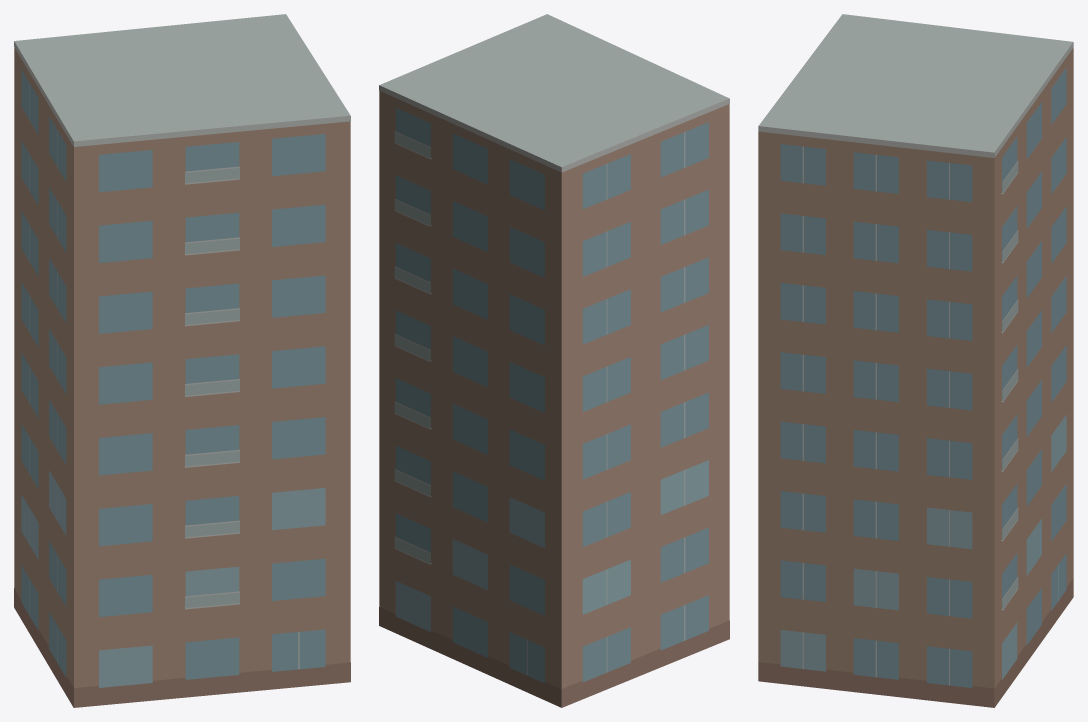
File: survey-upis-32872831.glb
The picture shows the model from 3 angles, left to right: view 1: azimuth 30°, elevation 25°; view 2: azimuth 150°, elevation 25°; view 3: azimuth 270°, elevation 25°; orthographic projection. The views are drawn at different scales.
Visible parts, largest first — view 1: survey-upis-32872831.tmp; view 2: survey-upis-32872831.tmp; view 3: survey-upis-32872831.tmp.
Part boxes in pixels (bbox=[...]): survey-upis-32872831.tmp: bbox=[14, 14, 350, 707]; survey-upis-32872831.tmp: bbox=[379, 14, 729, 707]; survey-upis-32872831.tmp: bbox=[758, 14, 1073, 707].
Size of the model in its own units: 13.24 by 24.7 by 12.72.
